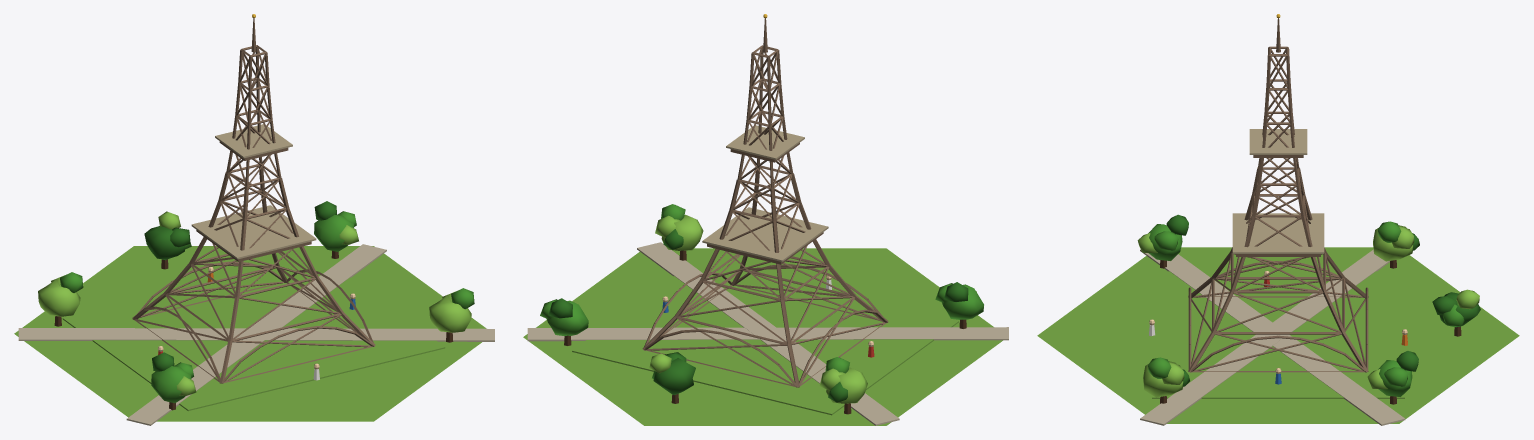
The model's file is wonder_eiffel_tower.fbx.
The picture shows the model from 3 angles, left to right: view 1: azimuth 30°, elevation 25°; view 2: azimuth 150°, elevation 25°; view 3: azimuth 270°, elevation 25°; orthographic projection.
Parts seen in each view (by area): view 1: wonder_eiffel_tower; view 2: wonder_eiffel_tower; view 3: wonder_eiffel_tower.
Part boxes in pixels (<box>): wonder_eiffel_tower: <box>14,14,494,425</box>; wonder_eiffel_tower: <box>523,14,1008,425</box>; wonder_eiffel_tower: <box>1037,14,1519,425</box>.
Size of the model in its own units: 186 by 155 by 210.
